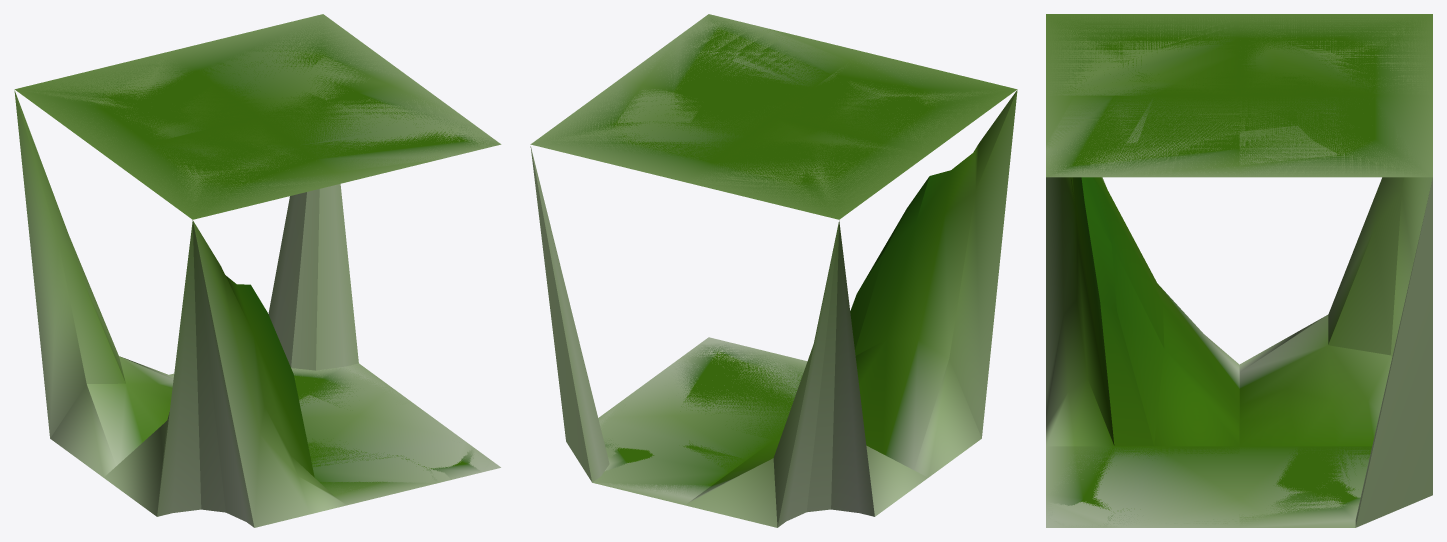
The model's file is T5DirB.fbx.
The picture shows the model from 3 angles, left to right: view 1: azimuth 30°, elevation 25°; view 2: azimuth 150°, elevation 25°; view 3: azimuth 270°, elevation 25°; orthographic projection. The views are drawn at different scales.
Parts seen in each view (by area): view 1: 3, 4, 2, 1; view 2: 3, 4, 2, 1; view 3: 3, 4, 2, 1.
Boxes of the visible parts, x1,y1,x2,y2 form: 3: (104,117,346,527); 4: (14,51,257,477); 2: (169,14,411,428); 1: (258,79,501,505); 3: (774,51,1017,477); 4: (685,117,927,527); 2: (530,79,773,505); 1: (620,14,862,439); 3: (1046,14,1239,446); 4: (1239,14,1432,446); 2: (1239,95,1432,527); 1: (1046,95,1239,527).
Size of the model in its own units: 200 by 200 by 200.
